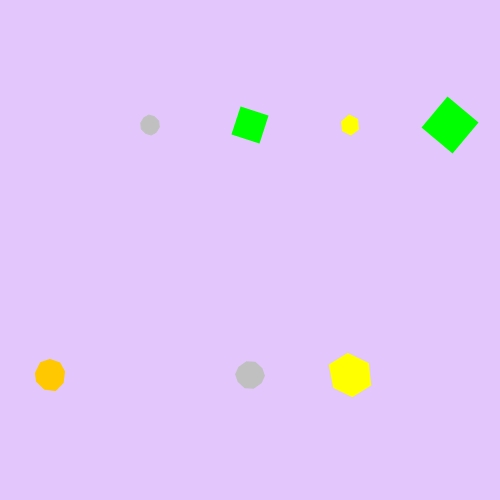decagon: (231, 358, 269, 393), (135, 111, 165, 139)
hexagon: (323, 353, 377, 398), (335, 112, 365, 138)
nonagon: (30, 356, 70, 394)
quadrilateral: (419, 94, 482, 157), (226, 101, 274, 149)
